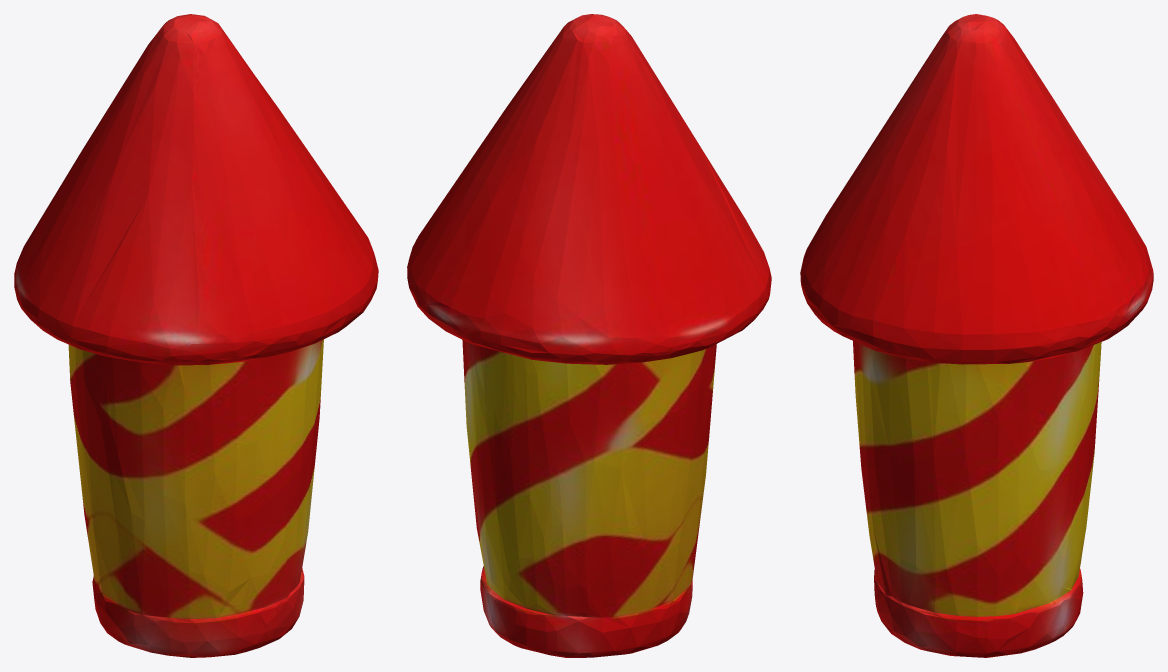
File: firework.glb
The picture shows the model from 3 angles, left to right: view 1: azimuth 30°, elevation 25°; view 2: azimuth 150°, elevation 25°; view 3: azimuth 270°, elevation 25°; orthographic projection.
Visible parts, largest first — view 1: geometry_0; view 2: geometry_0; view 3: geometry_0.
Boxes of the visible parts, x1,y1,x2,y2 form: geometry_0: (14,14,378,657); geometry_0: (407,14,771,657); geometry_0: (800,14,1153,657).
Bounding box in the file's own units: 0.5501 × 0.9988 × 0.5365.
1 material, 1 textured.
